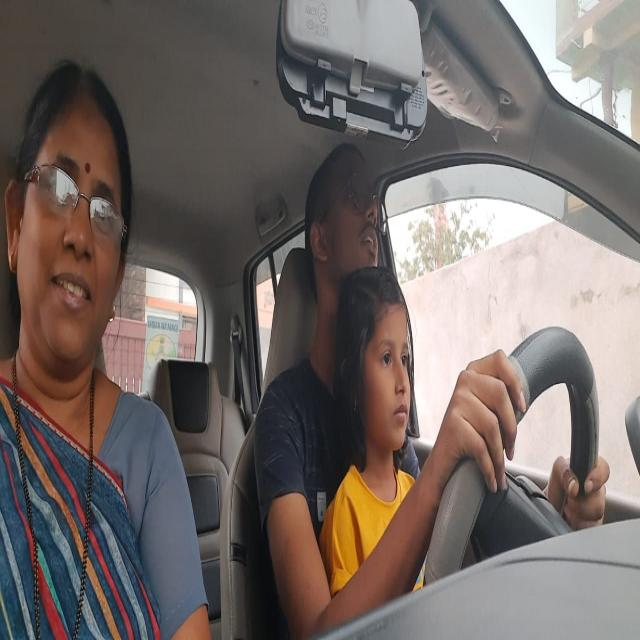child: (341, 267, 414, 463)
person: (2, 57, 134, 403), (304, 140, 384, 276)
